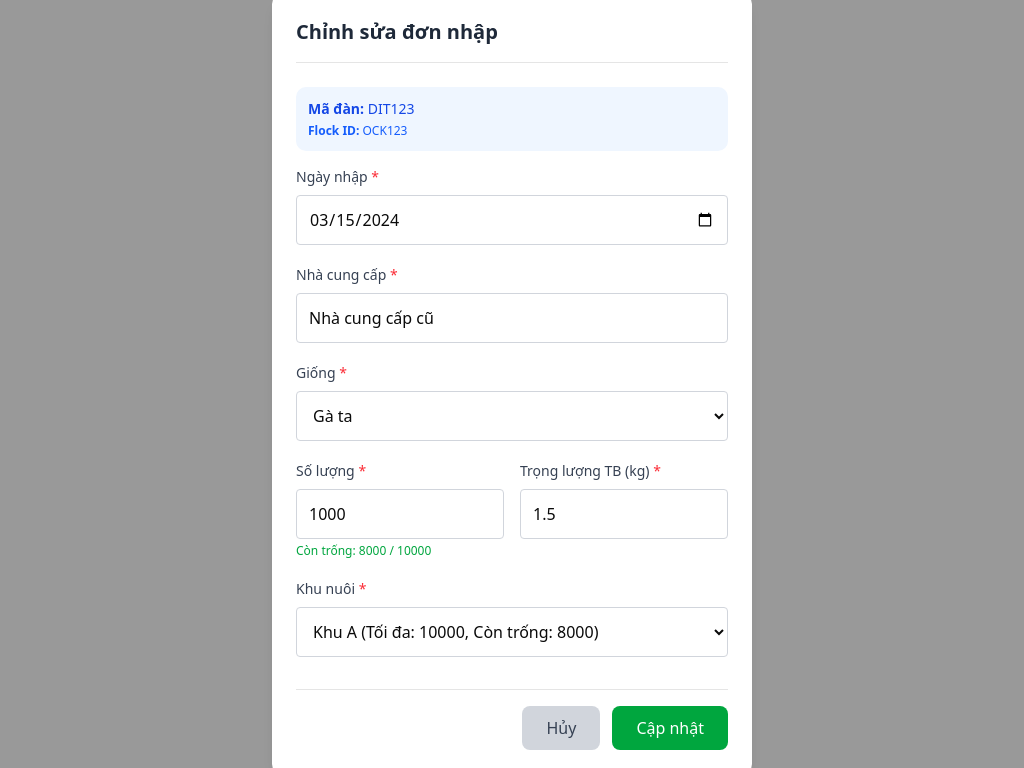
Test case: U5.2 - Form Nhập chuồng mới & U5.5 - Chỉnh sửa › TC12 - Tính toán đúng sức chứa khi chỉnh sửa sang khu nuôi khác
Expected: the dropdown below "Giống" is shown, [296,391,728,441]
// Tìm combobox khu nuôi
Select "Khu B (Tối đa: 15000, Còn trống: 7000)" in the dropdown below "Khu nuôi". click: [512, 632]
box: [296,607,728,657]
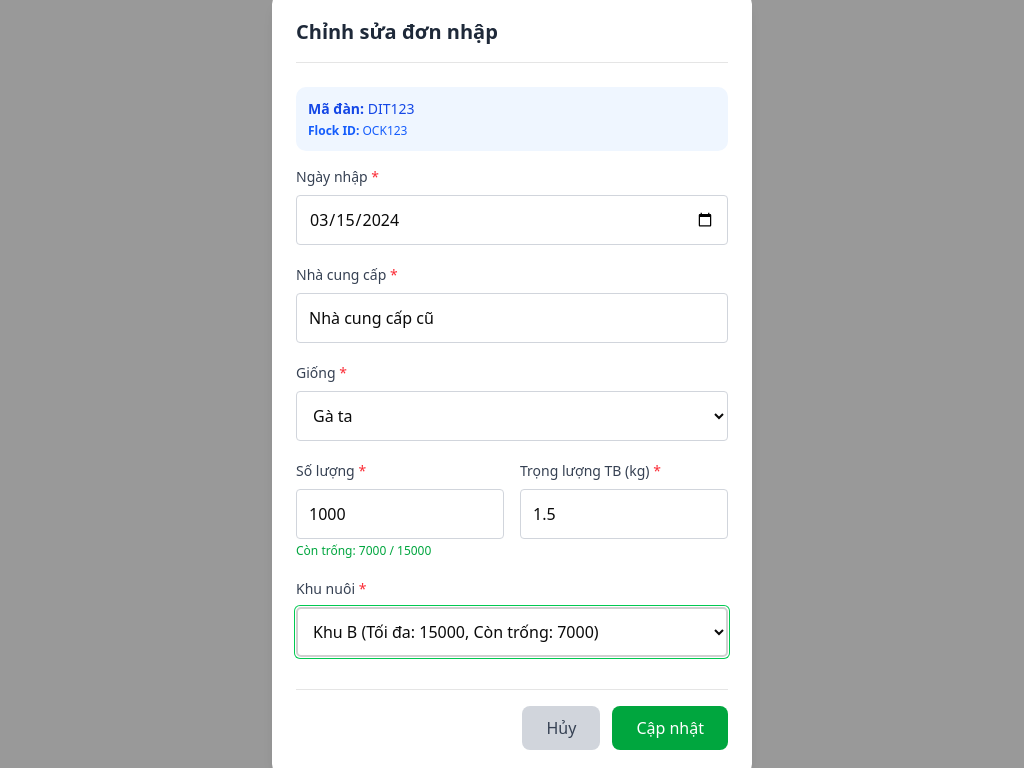
// Nhập số lượng vượt quá 7000
Clear the number field with placeholder "0" below "Số lượng". click: [400, 514]
box: [296,489,504,539]
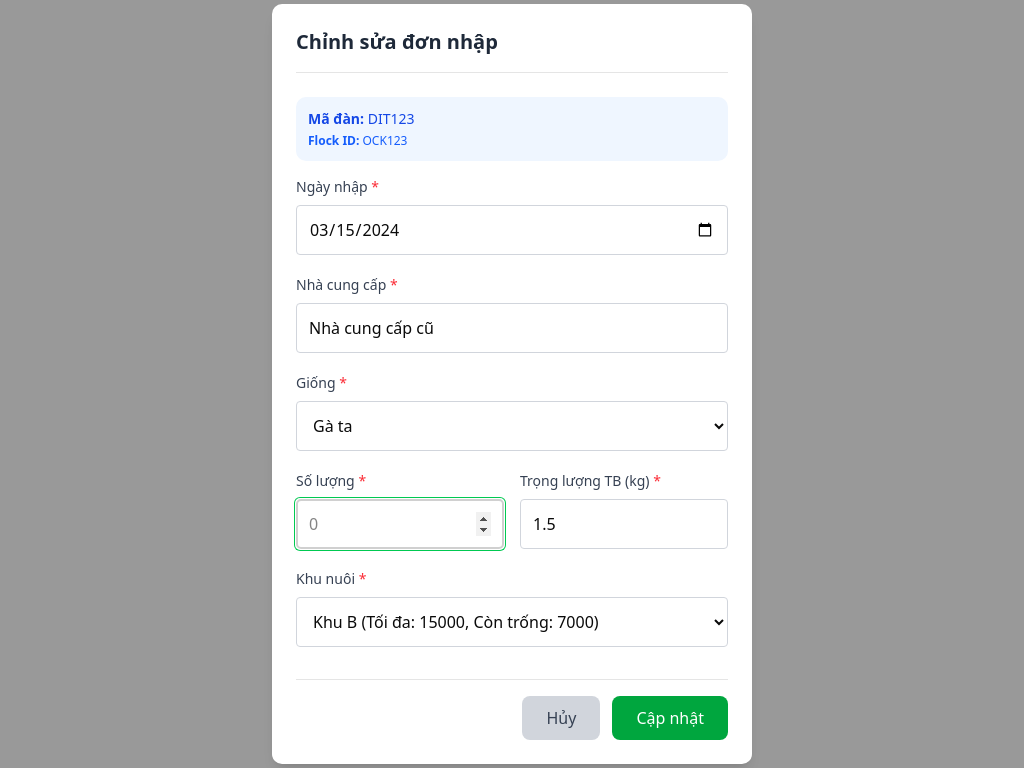
Type "7500" into the number field with placeholder "0". click: [400, 524]
box: [296,499,504,549]
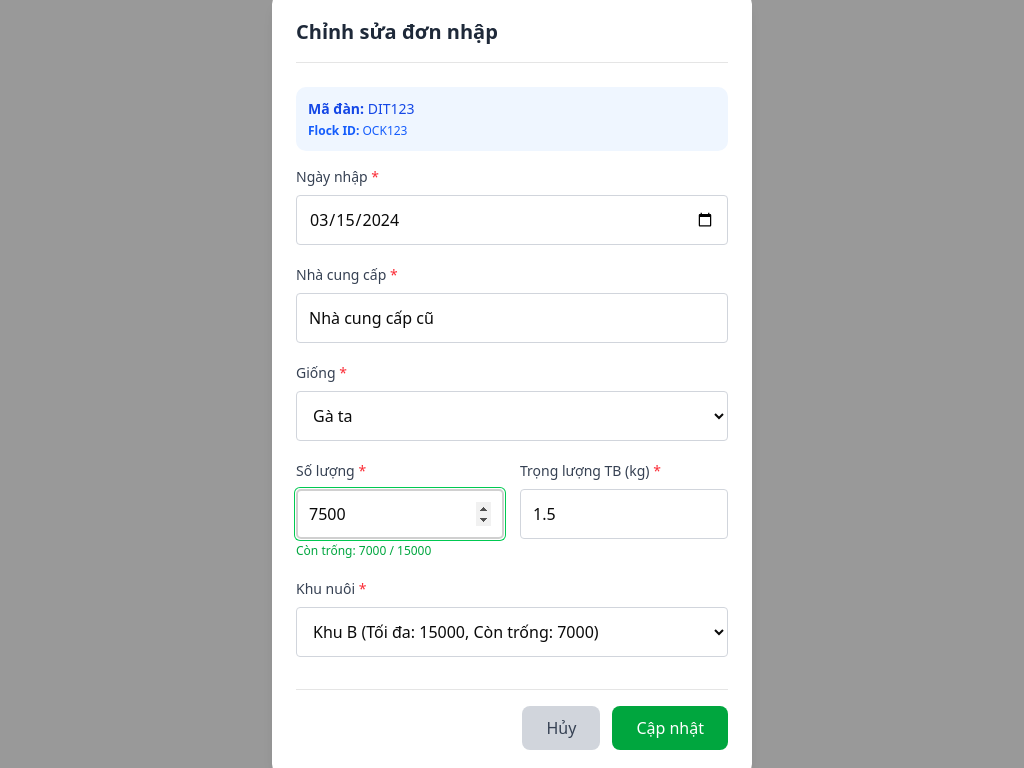
Press Tab
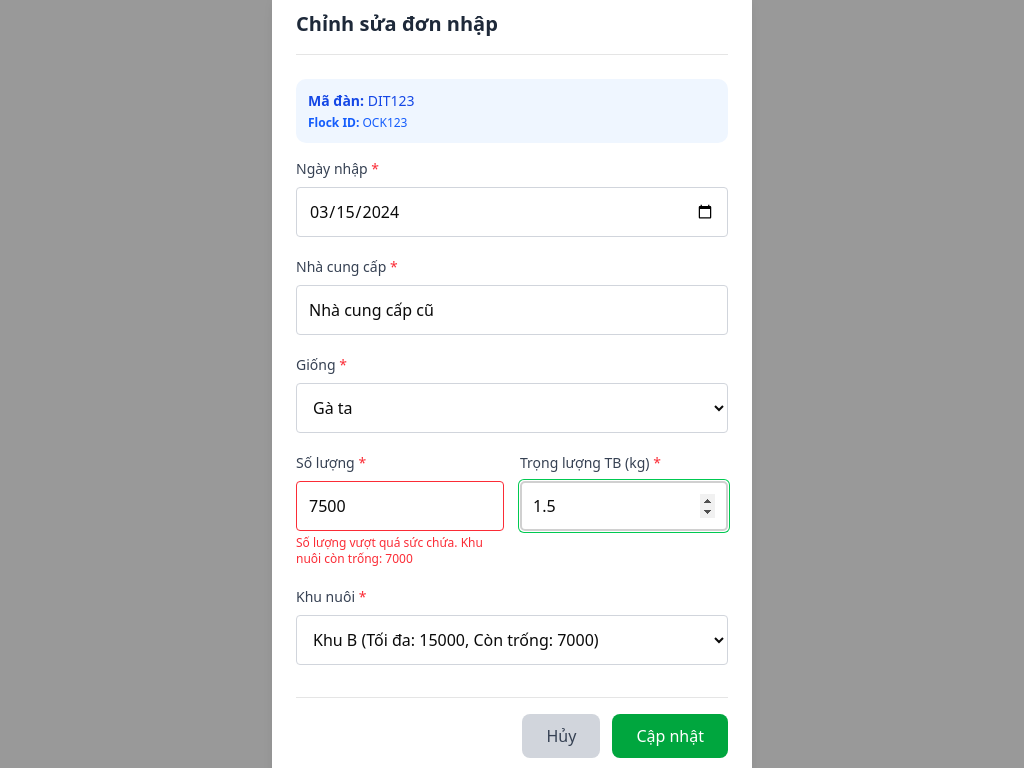
Now the text "Số lượng vượt quá sức chứa. Khu nuôi còn trống: 7000" is shown, box [296,535,504,567]
